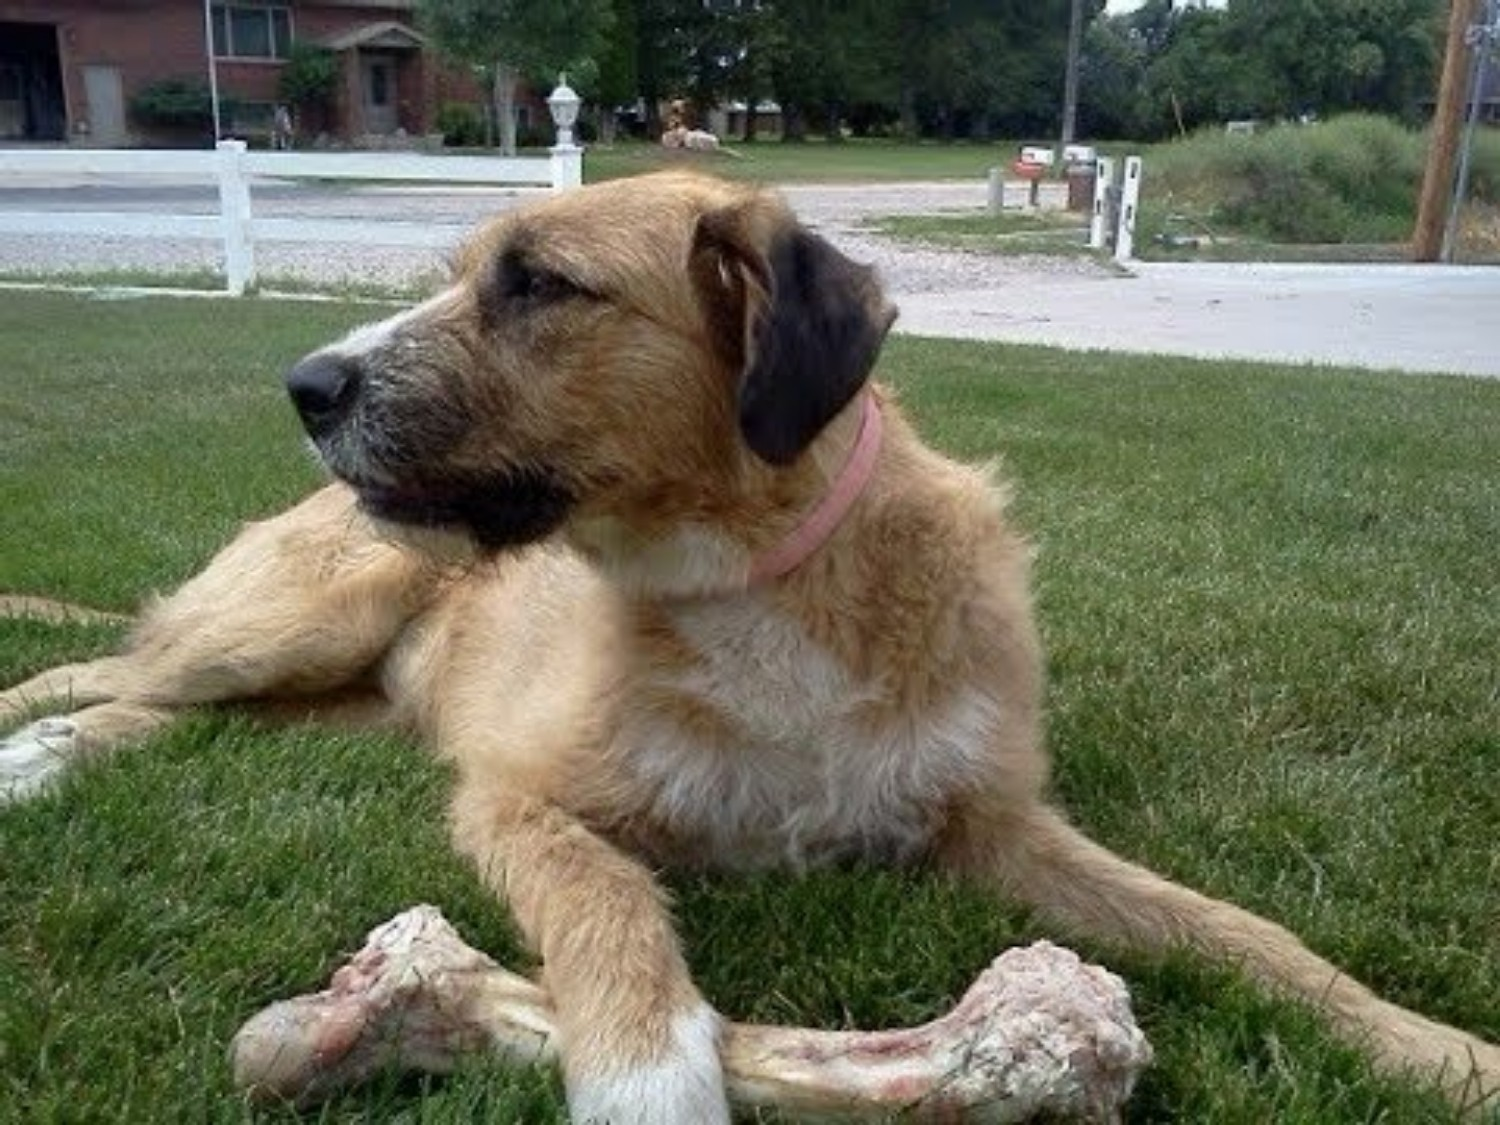other_dog_breed: (0, 165, 1500, 1125)
